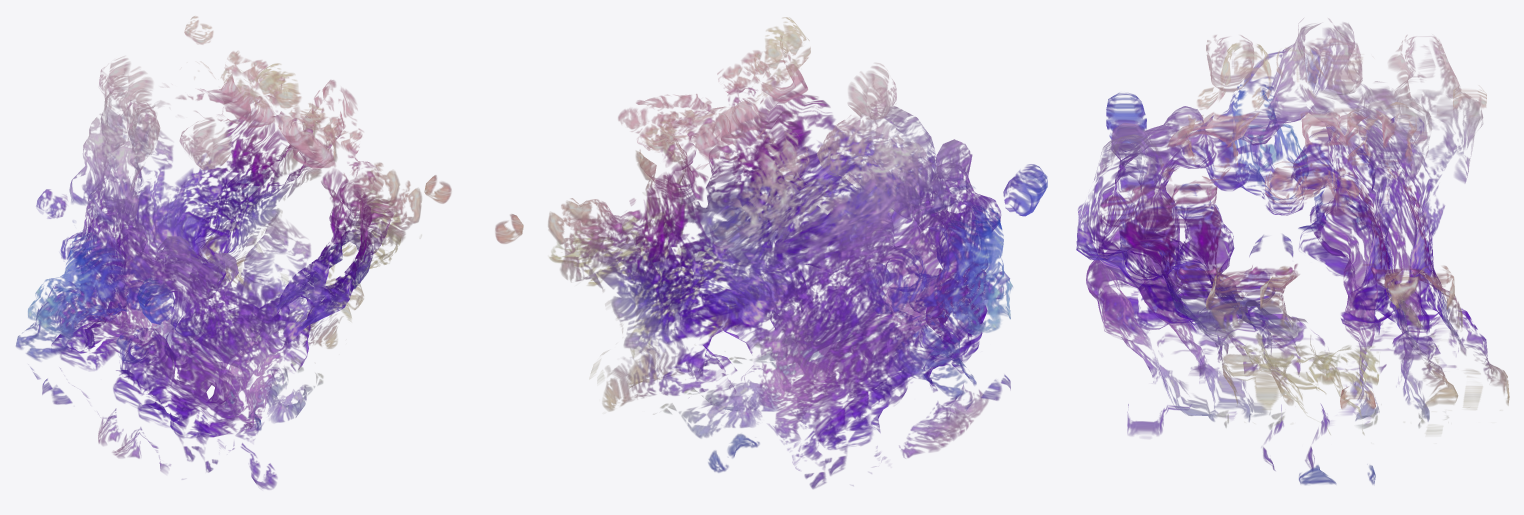
Rendered from cassiopeia_newsi-ascii.glb.
3 renders of one model, left to right at view 1: azimuth 30°, elevation 25°; view 2: azimuth 150°, elevation 25°; view 3: azimuth 270°, elevation 25°, orthographic. The views are drawn at different scales.
Parts seen in each view (by area): view 1: Newsi-Ascii.002_baked; view 2: Newsi-Ascii.002_baked; view 3: Newsi-Ascii.002_baked.
Boxes of the visible parts, bbox=[...] form: Newsi-Ascii.002_baked: bbox=[16, 16, 451, 489]; Newsi-Ascii.002_baked: bbox=[495, 17, 1047, 488]; Newsi-Ascii.002_baked: bbox=[1076, 18, 1509, 484].
Size of the model in its own units: 80.22 by 71 by 58.17.
1 material, 1 textured.
